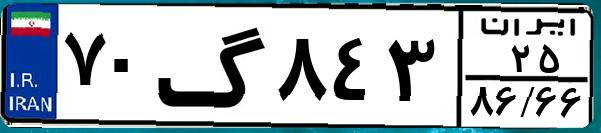0: (110, 28, 156, 98)
2: (508, 27, 537, 80)
3: (385, 28, 445, 110)
4: (330, 28, 385, 110)
5: (537, 27, 568, 80)
6: (560, 70, 590, 125), (495, 70, 520, 125), (535, 70, 560, 125)
7: (57, 26, 110, 100)
8: (270, 28, 330, 110), (470, 70, 495, 125)
گ: (156, 12, 270, 120)
